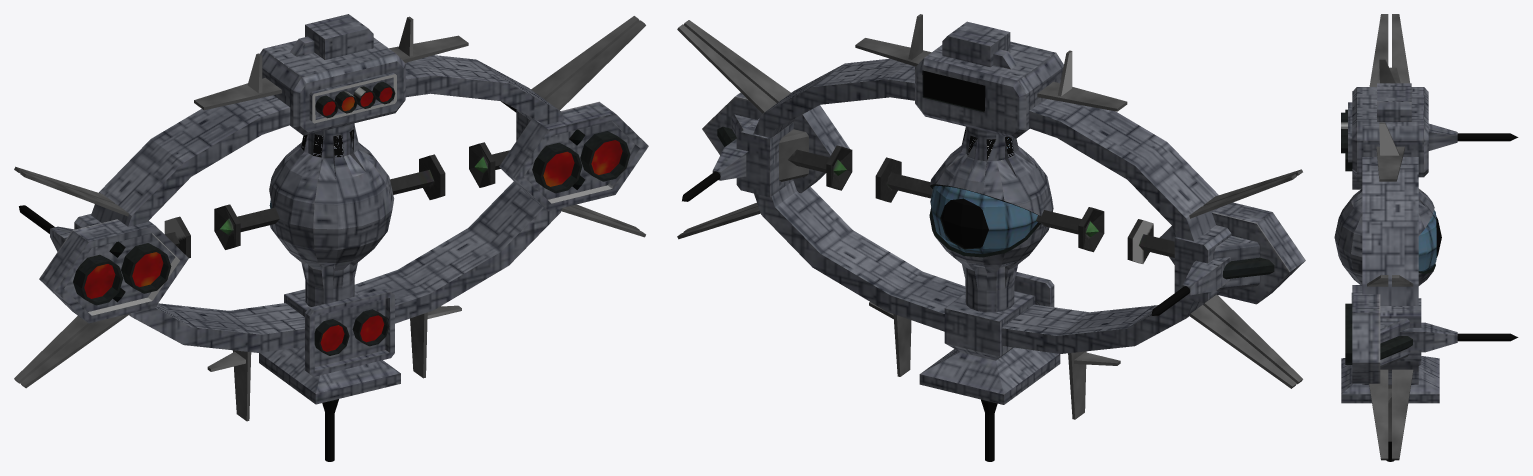
Rendered from Odysseus.glb.
3 renders of one model, left to right at view 1: azimuth 30°, elevation 25°; view 2: azimuth 150°, elevation 25°; view 3: azimuth 270°, elevation 25°, orthographic. The views are drawn at different scales.
Parts seen in each view (by area): view 1: Symmetry.1; view 2: Symmetry.1; view 3: Symmetry.1.
Boxes of the visible parts, box(x1,y1,x2,y2) form: Symmetry.1: box(14, 14, 648, 461); Symmetry.1: box(677, 14, 1305, 461); Symmetry.1: box(1334, 14, 1518, 461).
Bounding box in the file's own units: 1107 × 731 × 328.
1 material, 1 textured.
